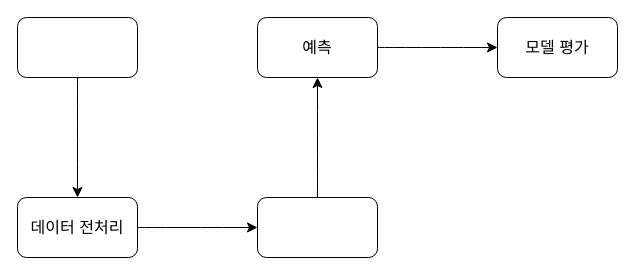
This 635x275 diagram has some shape labels left out. The shapes that lost their labels are listed below. From the top down, each one's box as (x1, y1, x2, y2) in pixels, then its label:
(16, 16, 138, 78): 데이터셋 확보
(256, 196, 378, 258): 가중치 학습
